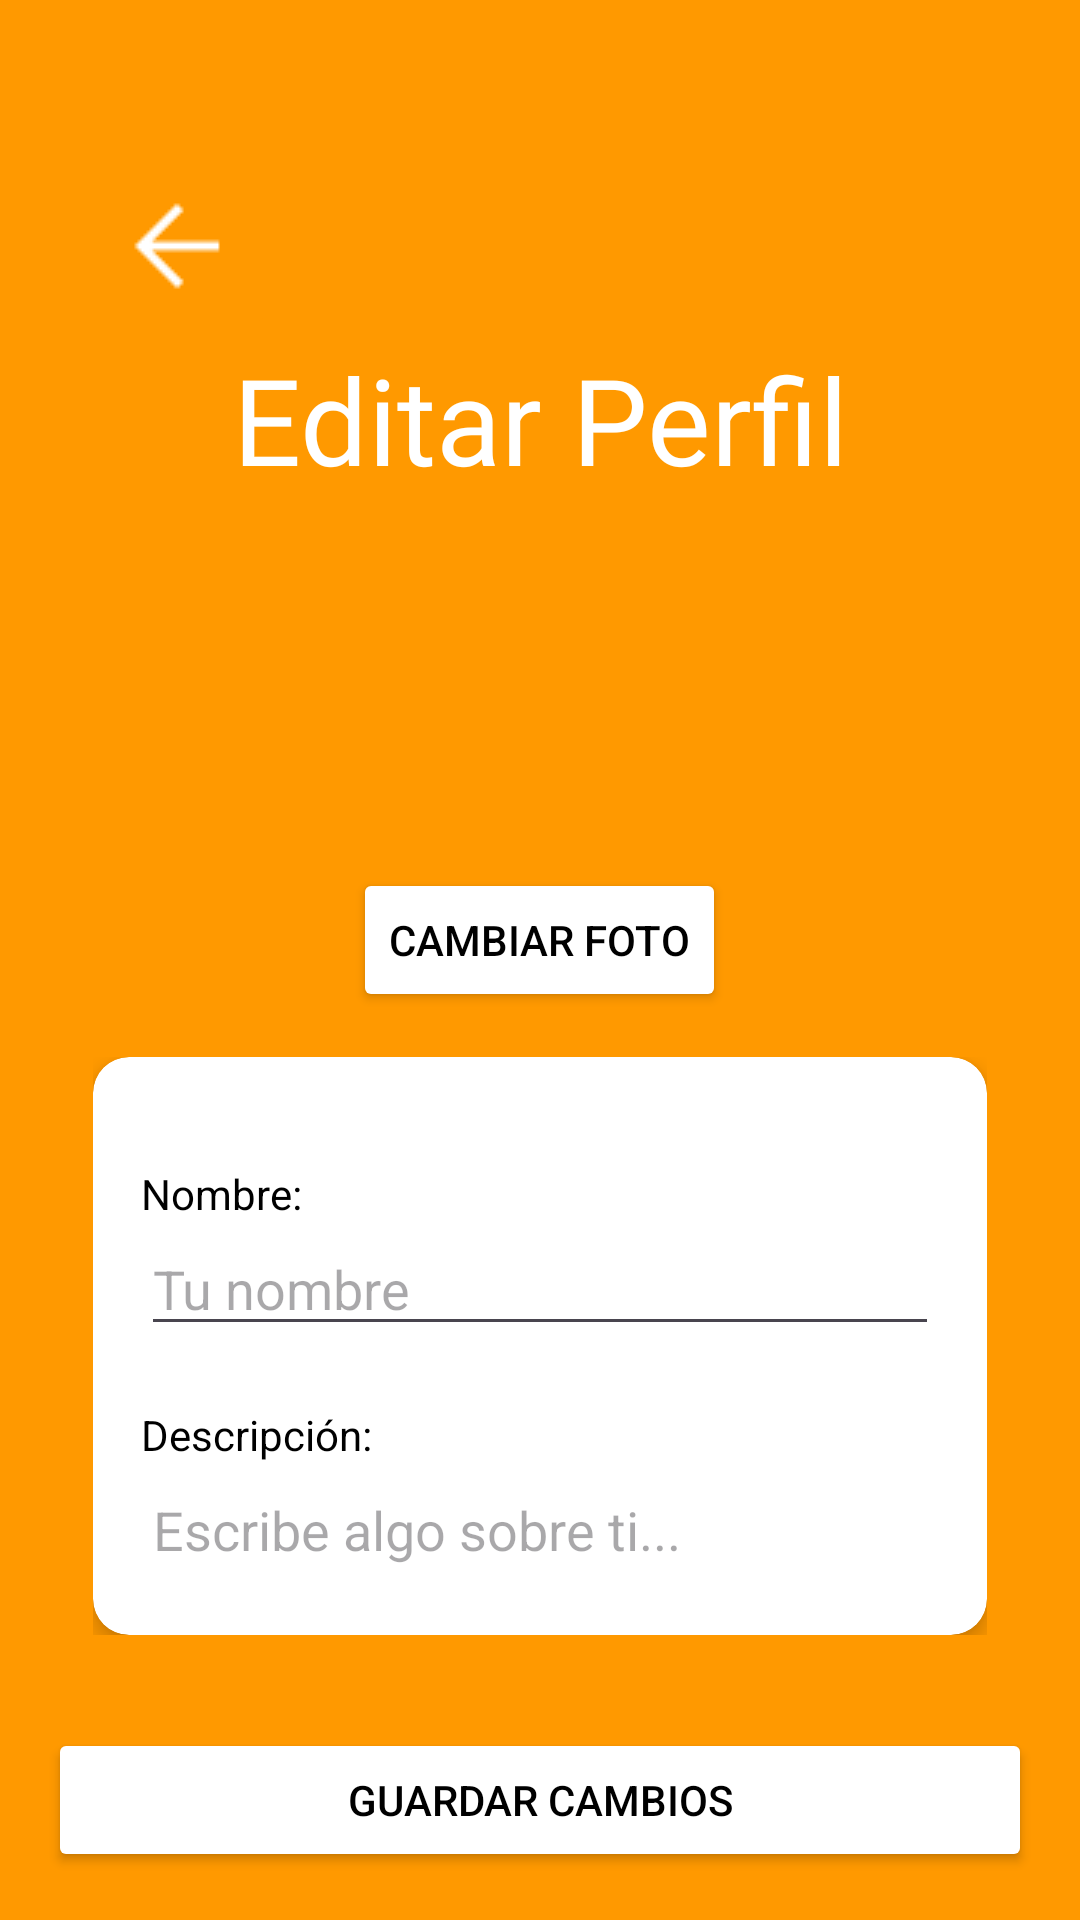

Named icons in this screenshot (1080x1920) and their bounding boxes, (x1, y1, x2, y2):
atras: (134, 203, 220, 289)
